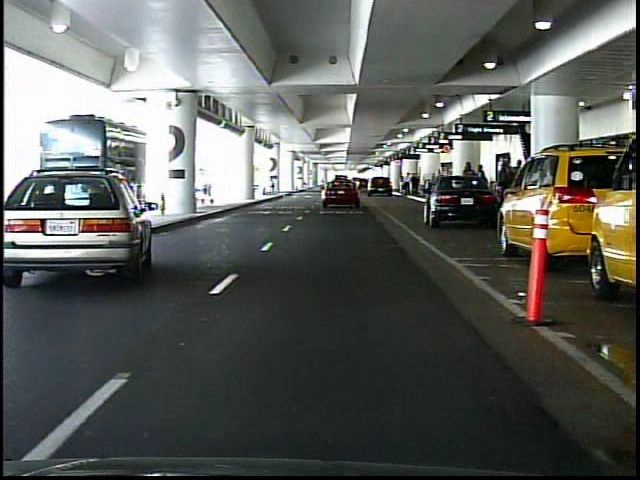person: (493, 159, 512, 212), (461, 160, 477, 207), (475, 163, 488, 207), (404, 171, 413, 197), (411, 173, 419, 197), (398, 175, 405, 191)
